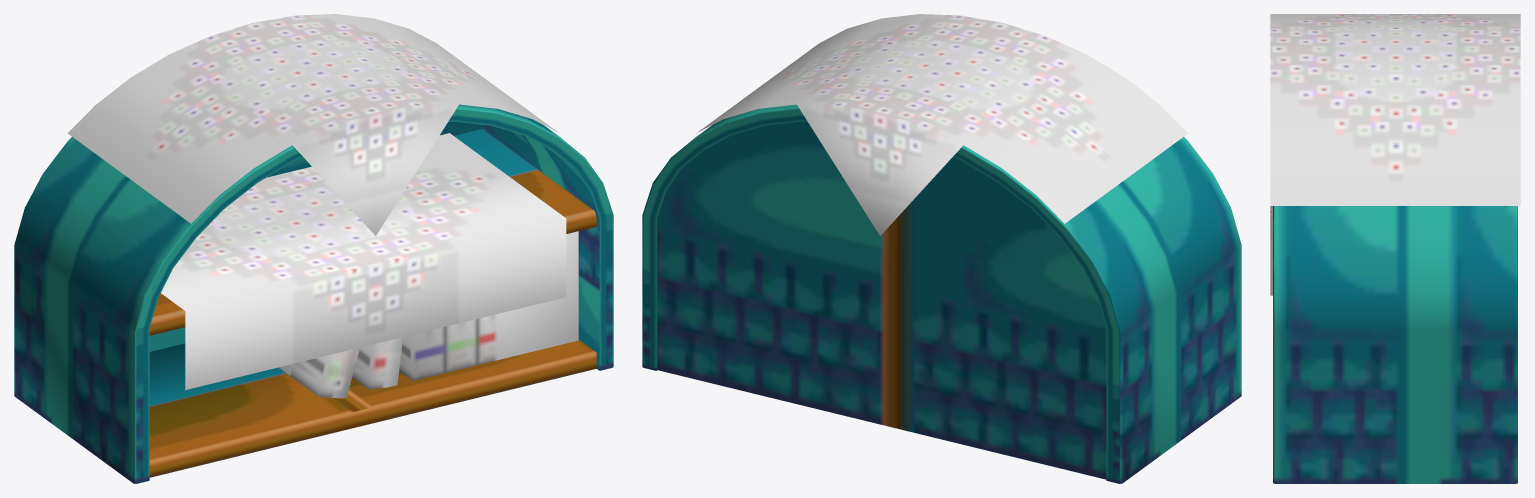
File: int_pck_shelf.dae
3 views of the same model, side by side, from view 1: azimuth 30°, elevation 25°; view 2: azimuth 150°, elevation 25°; view 3: azimuth 270°, elevation 25° (orthographic).
Parts seen in each view (by area): view 1: int_pck_shelf; view 2: int_pck_shelf; view 3: int_pck_shelf.
Part boxes in pixels (x1,y1,x2,y2): int_pck_shelf: (14,14,613,483); int_pck_shelf: (642,14,1241,483); int_pck_shelf: (1270,14,1520,483).
Bounding box in the file's own units: 51.56 × 32.16 × 23.
Materials: 3 (3 with a texture image).
